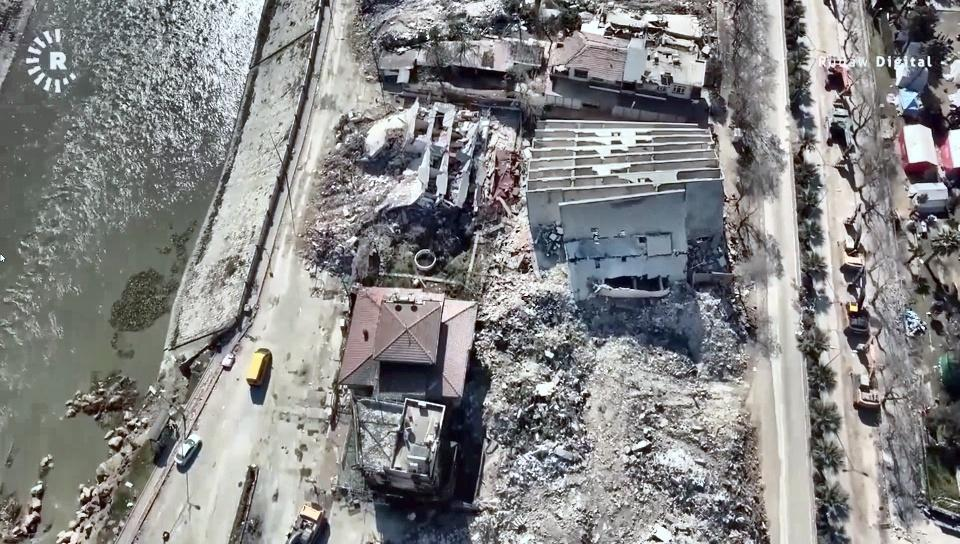kapali: (259, 99, 395, 309), (314, 0, 414, 103)
